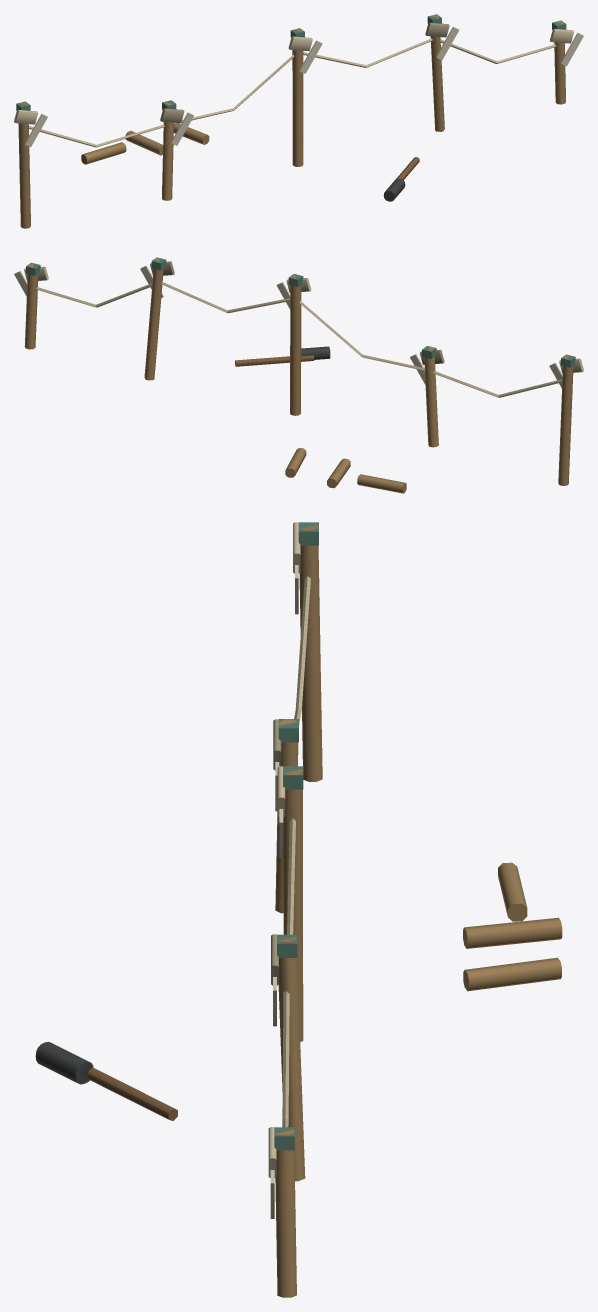
The model's file is survey_stakes_a.glb.
3 renders of one model, top to bottom at view 1: azimuth 30°, elevation 25°; view 2: azimuth 150°, elevation 25°; view 3: azimuth 270°, elevation 25°, orthographic. The views are drawn at different scales.
Visible parts, largest first — view 1: Surface; view 2: Surface; view 3: Surface.
Part boxes in pixels (x1,y1,x2,y2): Surface: (14,14,583,228); Surface: (14,257,583,493); Surface: (35,522,562,1297).
Size of the model in its own units: 3.34 by 0.7605 by 1.35.
